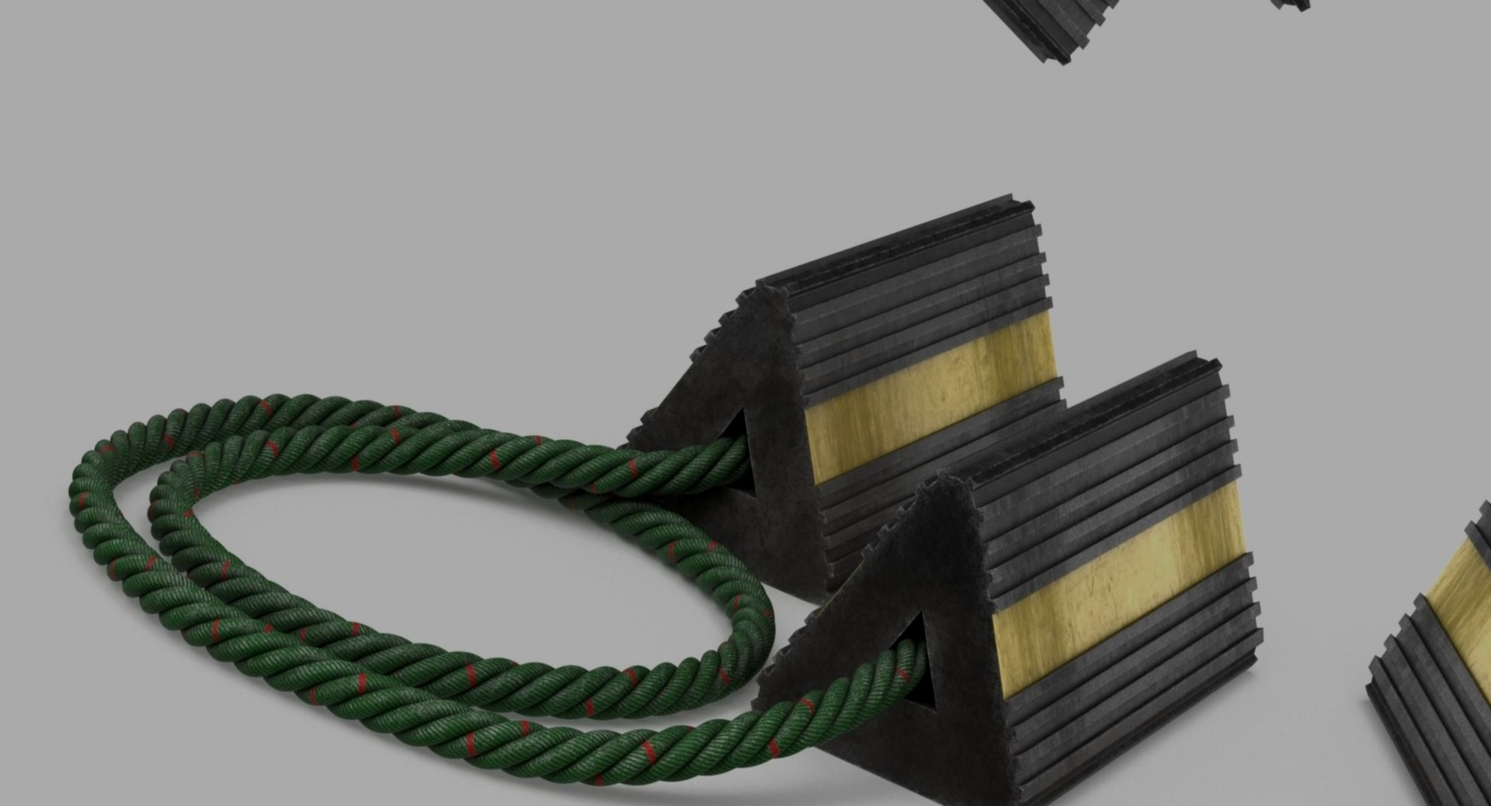chock: (736, 258, 1332, 806), (576, 113, 1115, 655)
